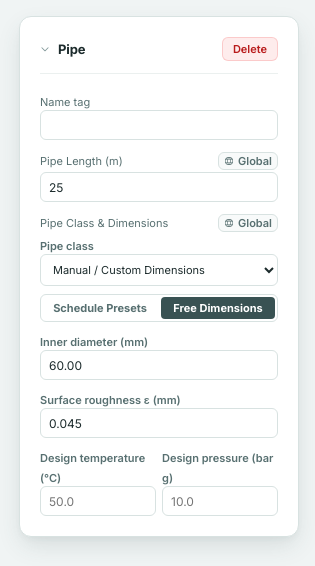
Test: free inner diameter commits on blur › ignores an empty or zero diameter and shows the stored value again
The image size is (315, 566).
Replace the text in the number field showing "60.00" below "Inner diameter (" with "0" at coordinates (159, 365), box [40, 350, 278, 380]
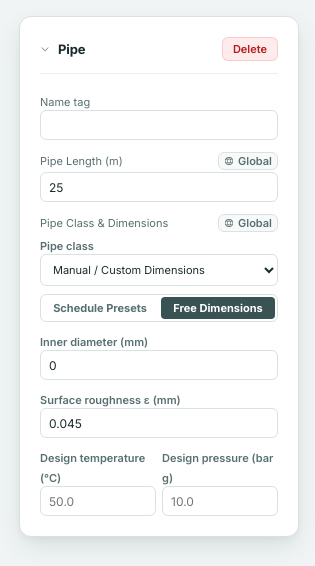
Leave the number field showing "60.00" below "Inner diameter (", box [40, 350, 278, 380]
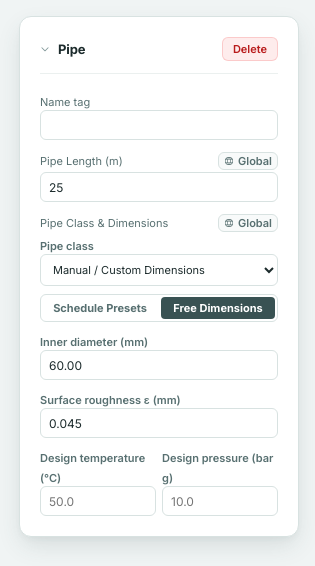
Check: the number field showing "60.00" below "Inner diameter (" holds "60.00", box [40, 350, 278, 380]
